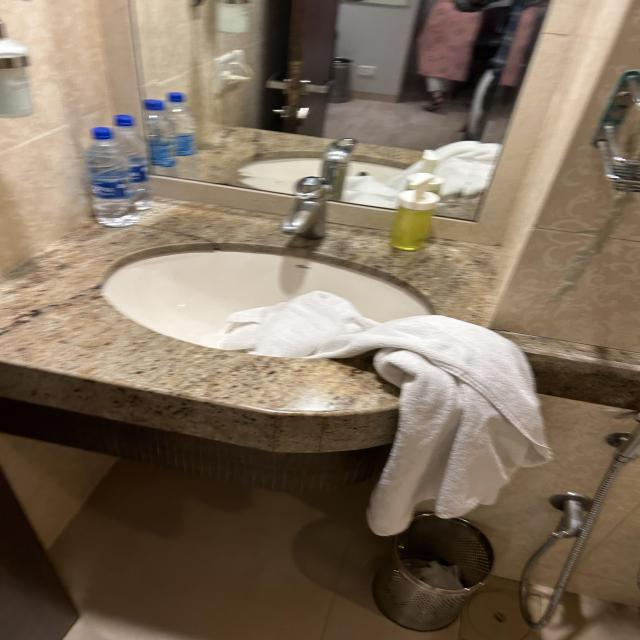mess: (0, 104, 595, 508)
